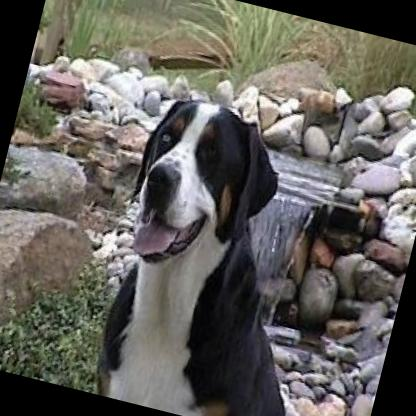Greater_Swiss_Mountain_dog: (76, 88, 356, 416)
